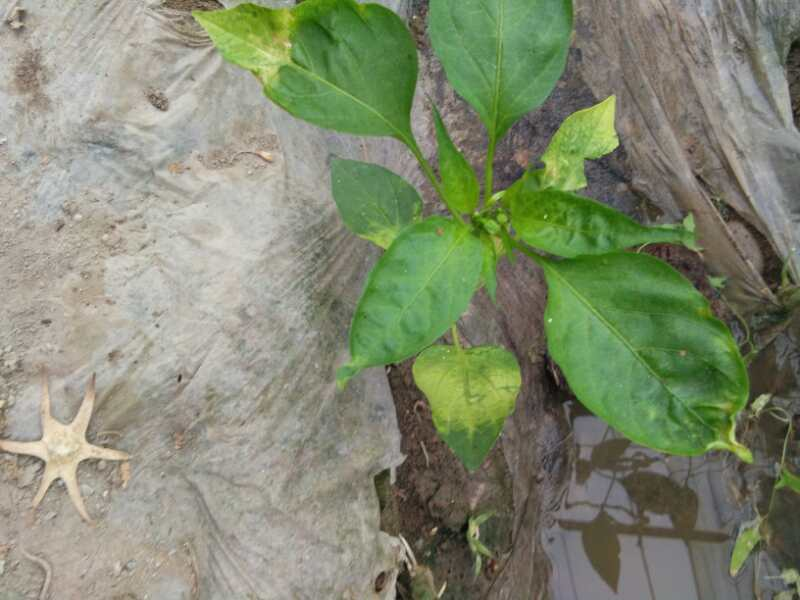iouv: (190, 1, 418, 141), (415, 343, 522, 476)
